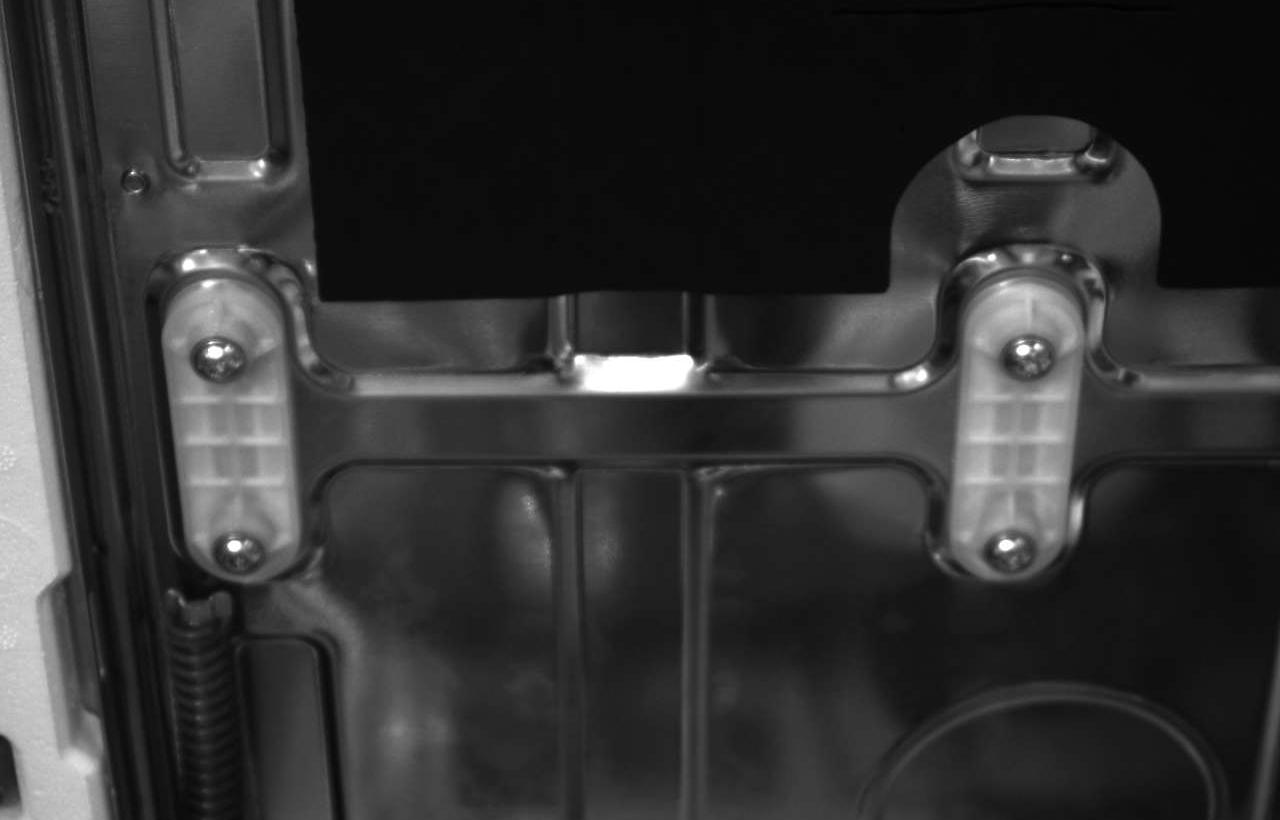vida-ok: (174, 316, 261, 393), (987, 319, 1075, 392), (200, 517, 281, 582), (973, 516, 1049, 575)
